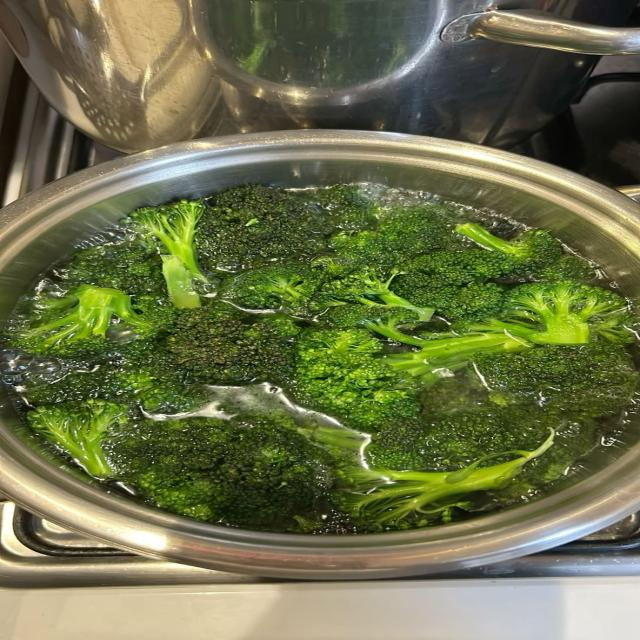broccoli: (368, 281, 628, 383), (109, 415, 332, 529), (334, 429, 554, 530), (366, 404, 581, 471), (20, 340, 210, 414), (292, 328, 419, 431), (469, 341, 638, 416), (198, 185, 331, 270), (164, 305, 298, 384), (13, 286, 159, 357), (385, 324, 532, 385), (127, 200, 206, 307), (500, 281, 629, 344), (331, 205, 459, 268), (27, 399, 126, 478), (108, 339, 211, 414), (314, 266, 434, 321), (127, 200, 206, 281), (59, 239, 163, 295), (393, 272, 503, 321), (456, 223, 562, 273), (222, 262, 322, 314), (406, 250, 511, 285), (311, 184, 375, 230), (318, 304, 422, 330), (162, 256, 200, 308), (532, 255, 596, 282)
